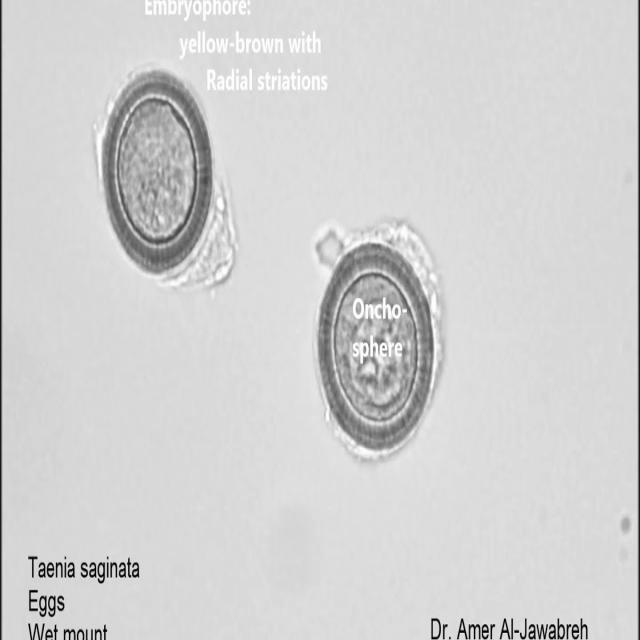Taenia Sp: (310, 238, 438, 457), (96, 69, 220, 279)
